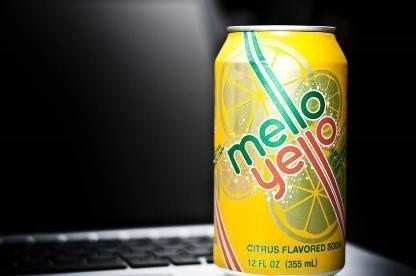Can: (211, 24, 349, 276)
